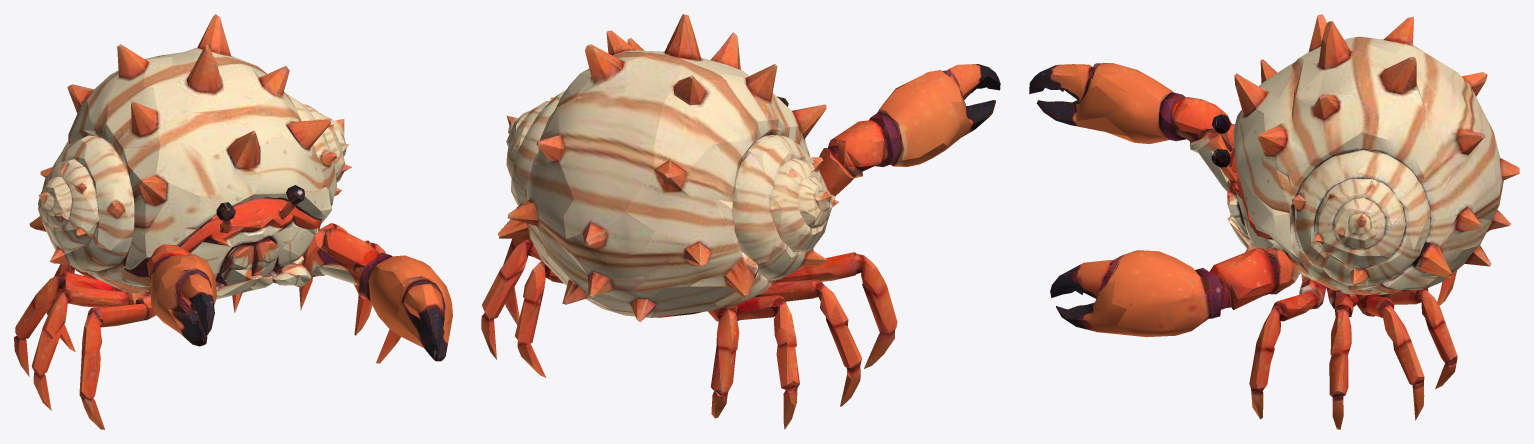
Rendered from hermit_crab.glb.
The picture shows the model from 3 angles, left to right: view 1: azimuth 30°, elevation 25°; view 2: azimuth 150°, elevation 25°; view 3: azimuth 270°, elevation 25°; orthographic projection. The views are drawn at different scales.
Bounding box in the file's own units: 1.53 × 1.42 × 1.89.
Materials: 1 (1 with a texture image).
